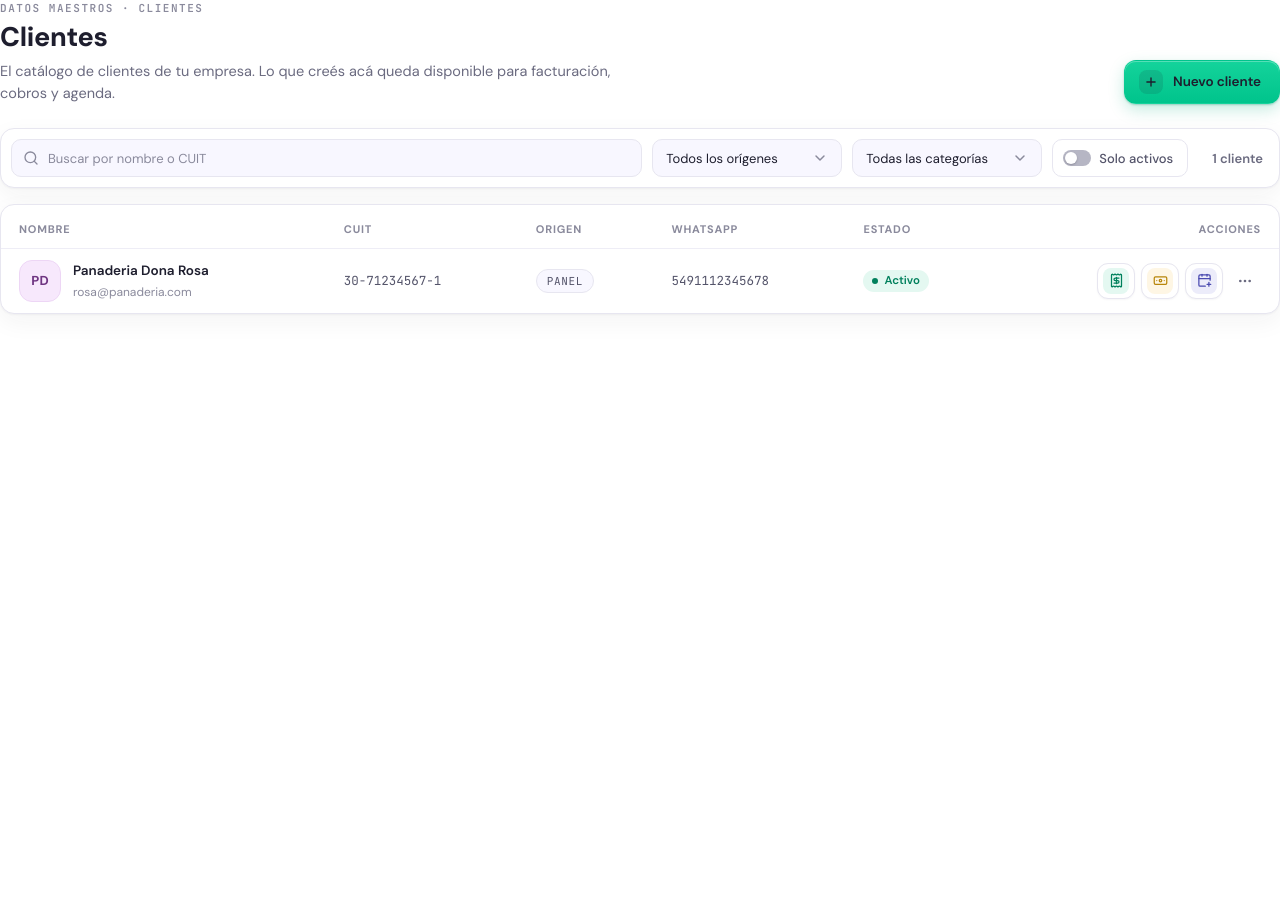
ListadoDeClientes › el CUIT duplicado muestra el mensaje y ofrece ver el que ya existe
The width and height of the screenshot is (1280, 900).
Click the button "Nuevo cliente" at [1202, 82], box left=1124, top=60, right=1279, bottom=104
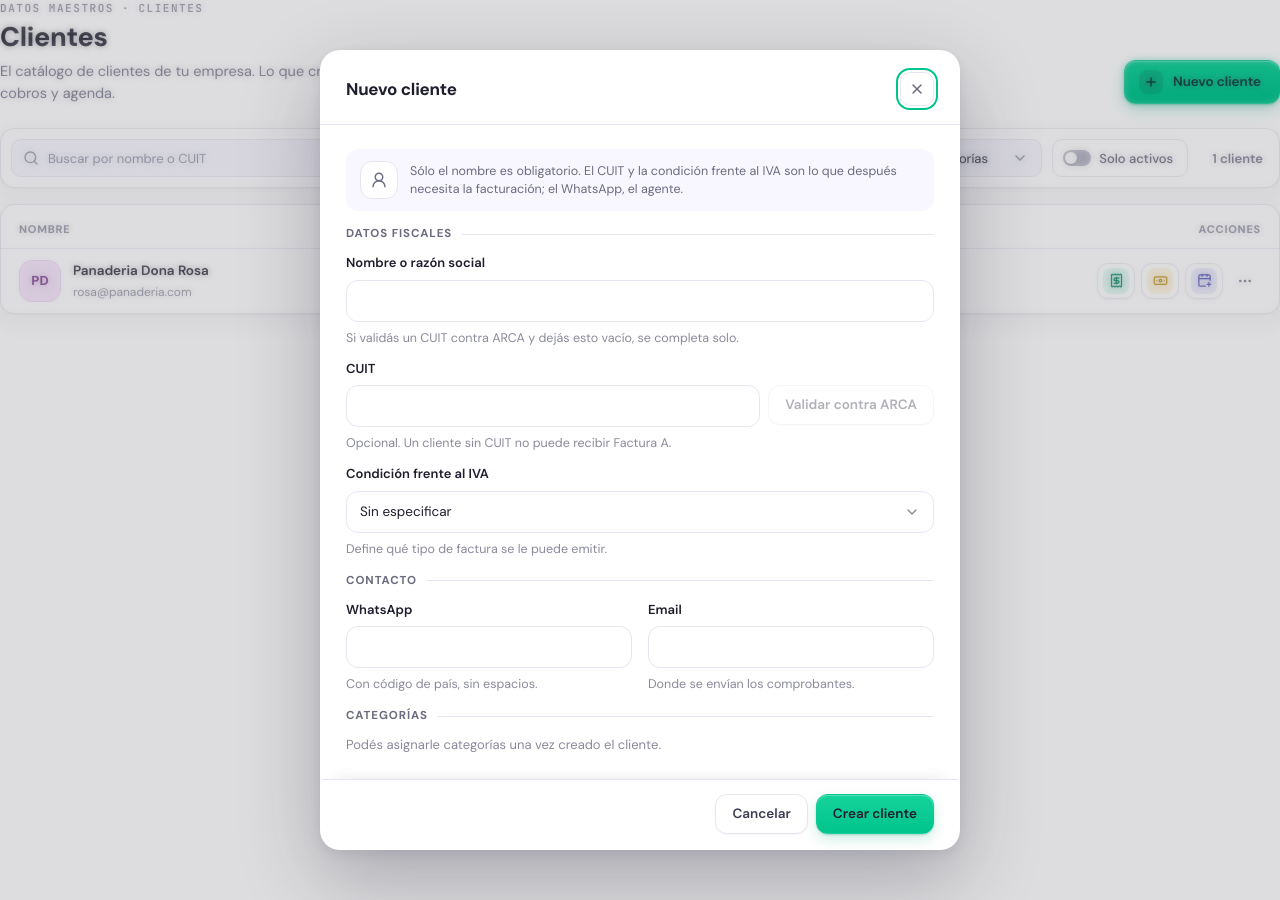
Type "Rosa otra vez" into the field labelled "Nombre o razón social" at [640, 301], box left=346, top=280, right=934, bottom=322
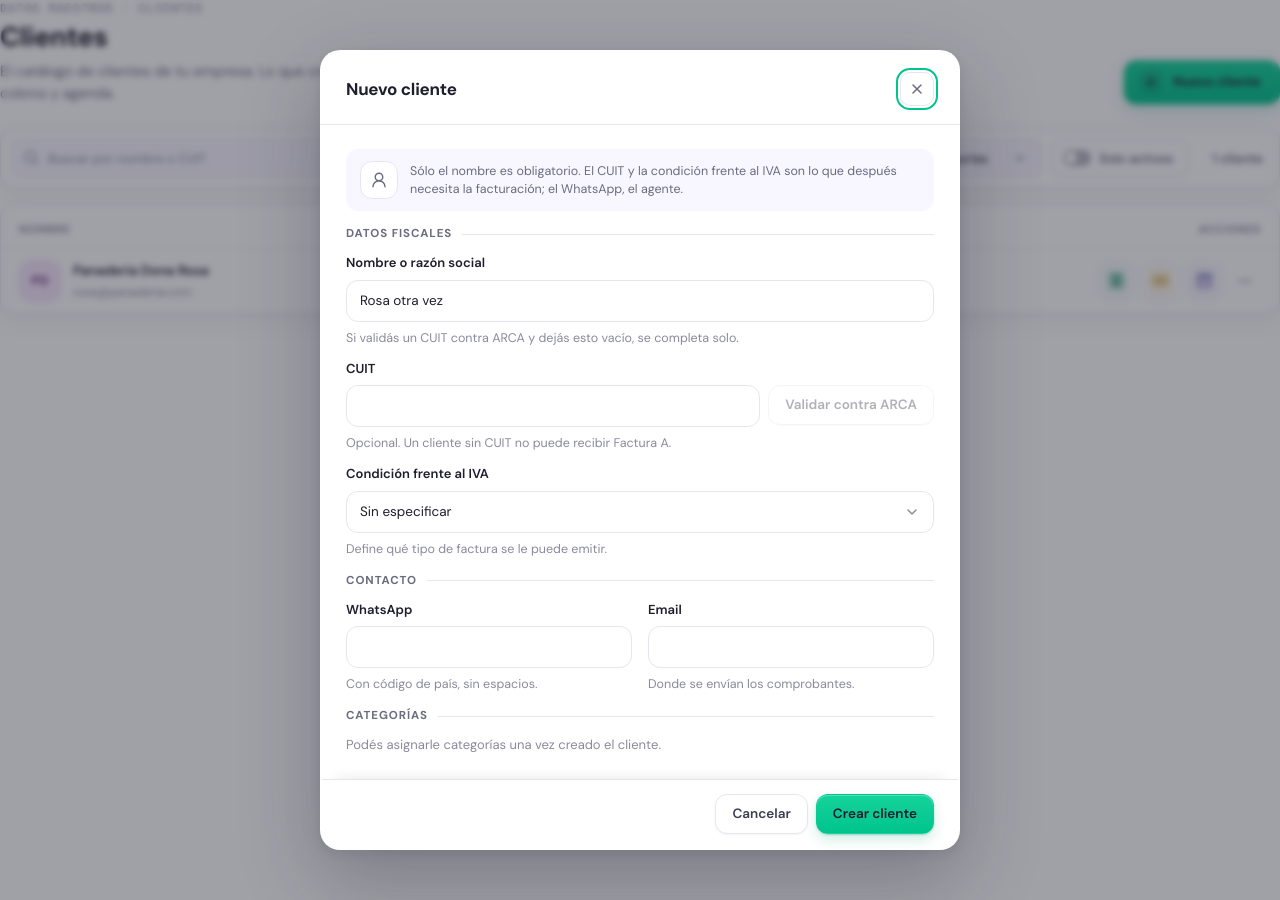
Click the button "Crear cliente" at [875, 814], box left=816, top=794, right=934, bottom=834
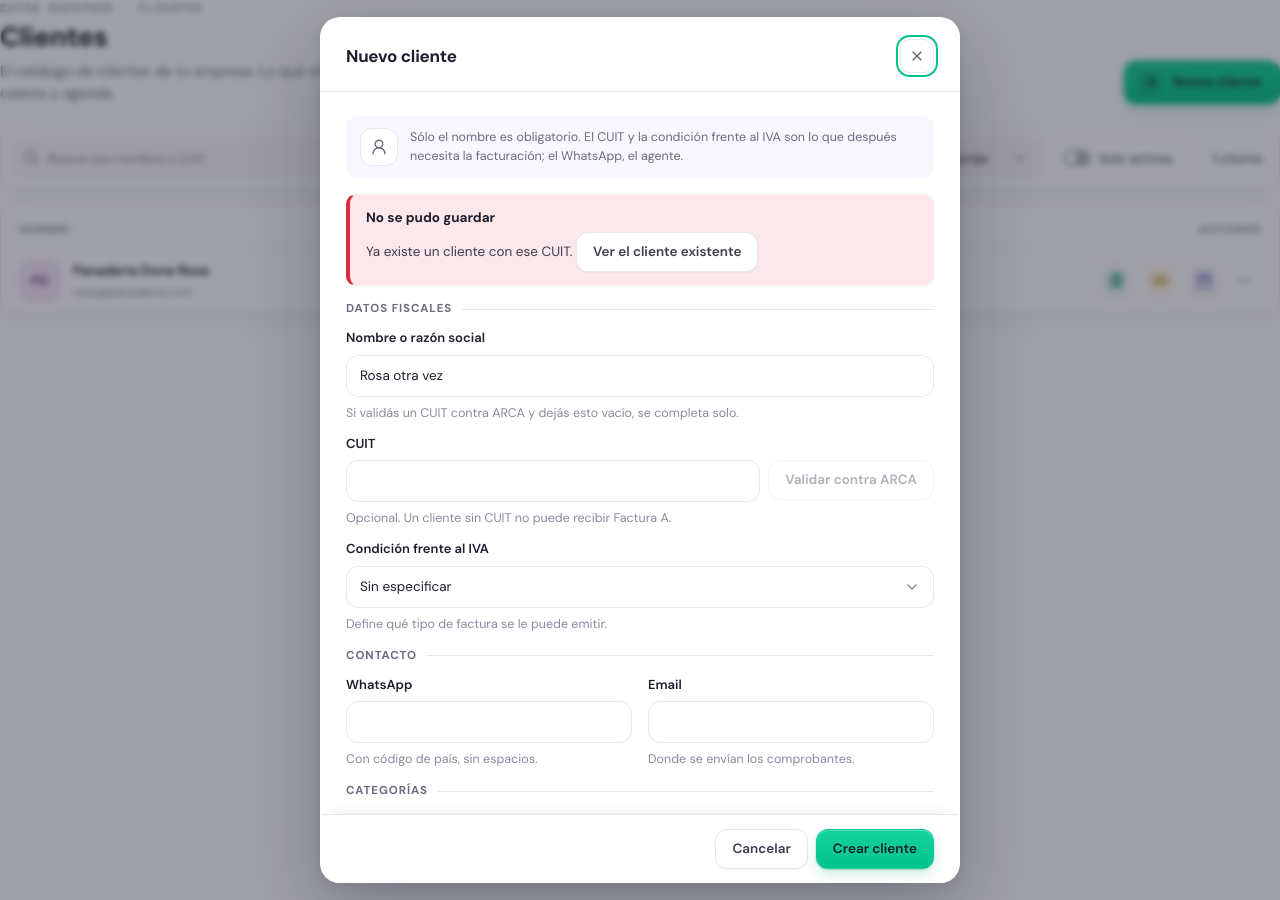
Expected: the text "Ya existe un cliente con ese CUIT." is shown, left=366, top=243, right=572, bottom=260
Expected: the button "Ver el cliente existente" is shown, left=576, top=232, right=758, bottom=272
